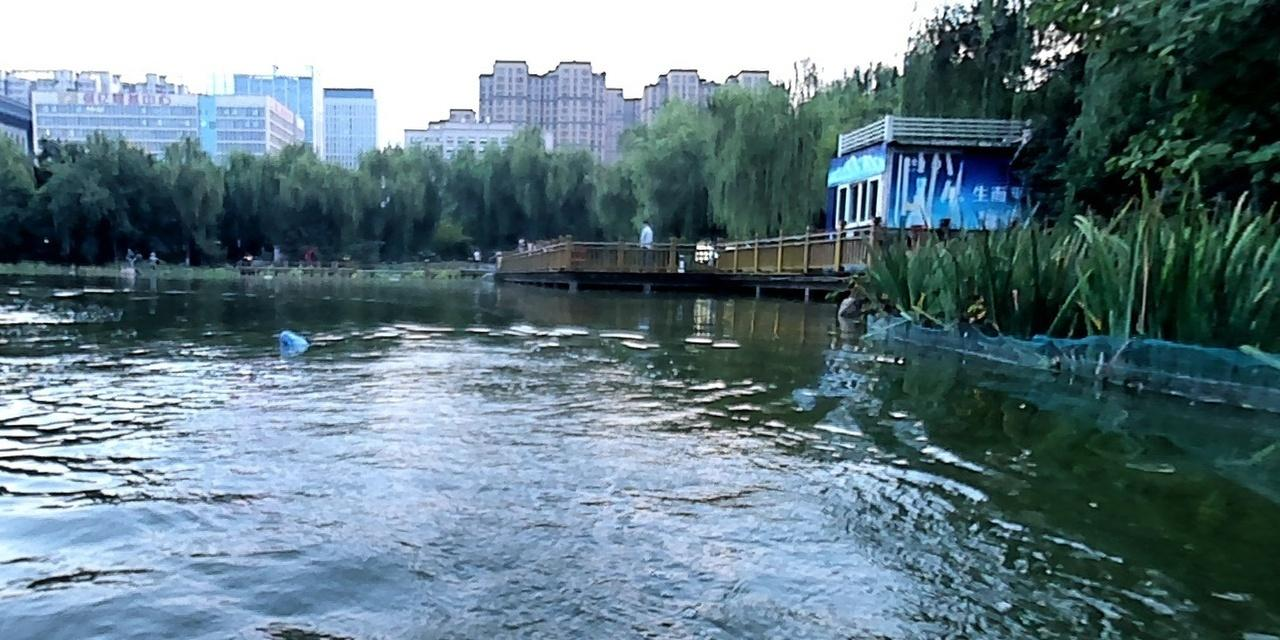bottle: (278, 329, 308, 353)
